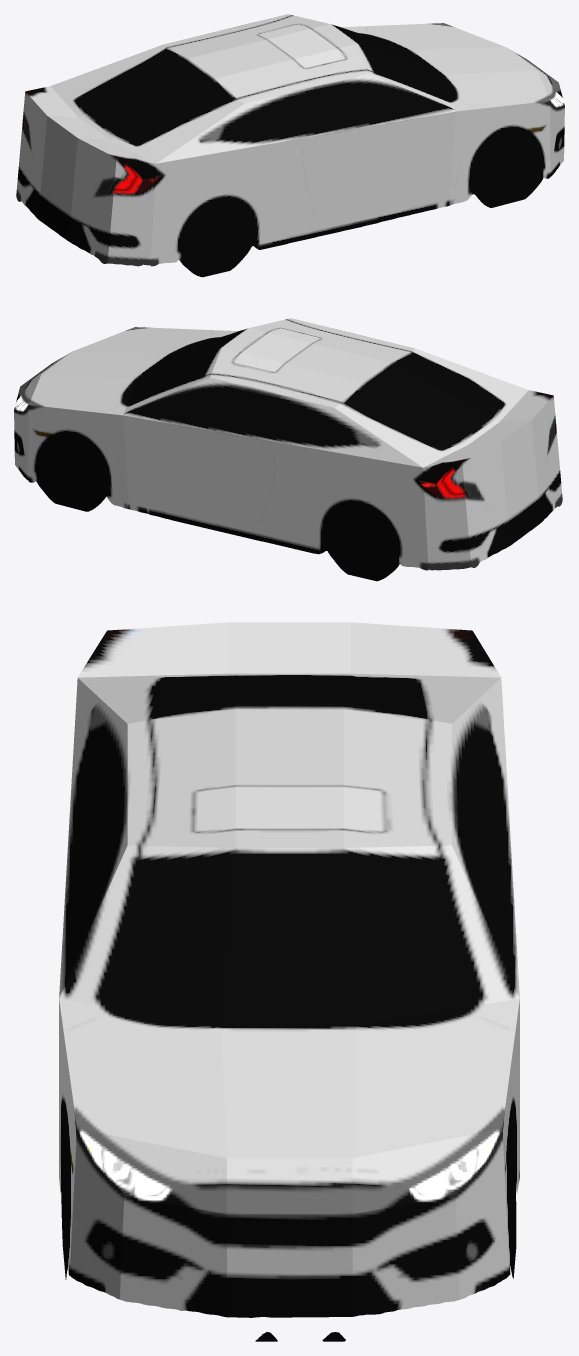
The model's file is honda2.glb.
3 renders of one model, top to bottom at view 1: azimuth 30°, elevation 25°; view 2: azimuth 150°, elevation 25°; view 3: azimuth 270°, elevation 25°, orthographic. The views are drawn at different scales.
Visible parts, largest first — view 1: Cube.006; view 2: Cube.006; view 3: Cube.006.
Part boxes in pixels (<box>): Cube.006: <box>16,14,564,277</box>; Cube.006: <box>14,318,562,581</box>; Cube.006: <box>59,622,519,1341</box>.
Size of the model in its own units: 4.35 by 1.32 by 1.76.
5 materials, 5 textured.
